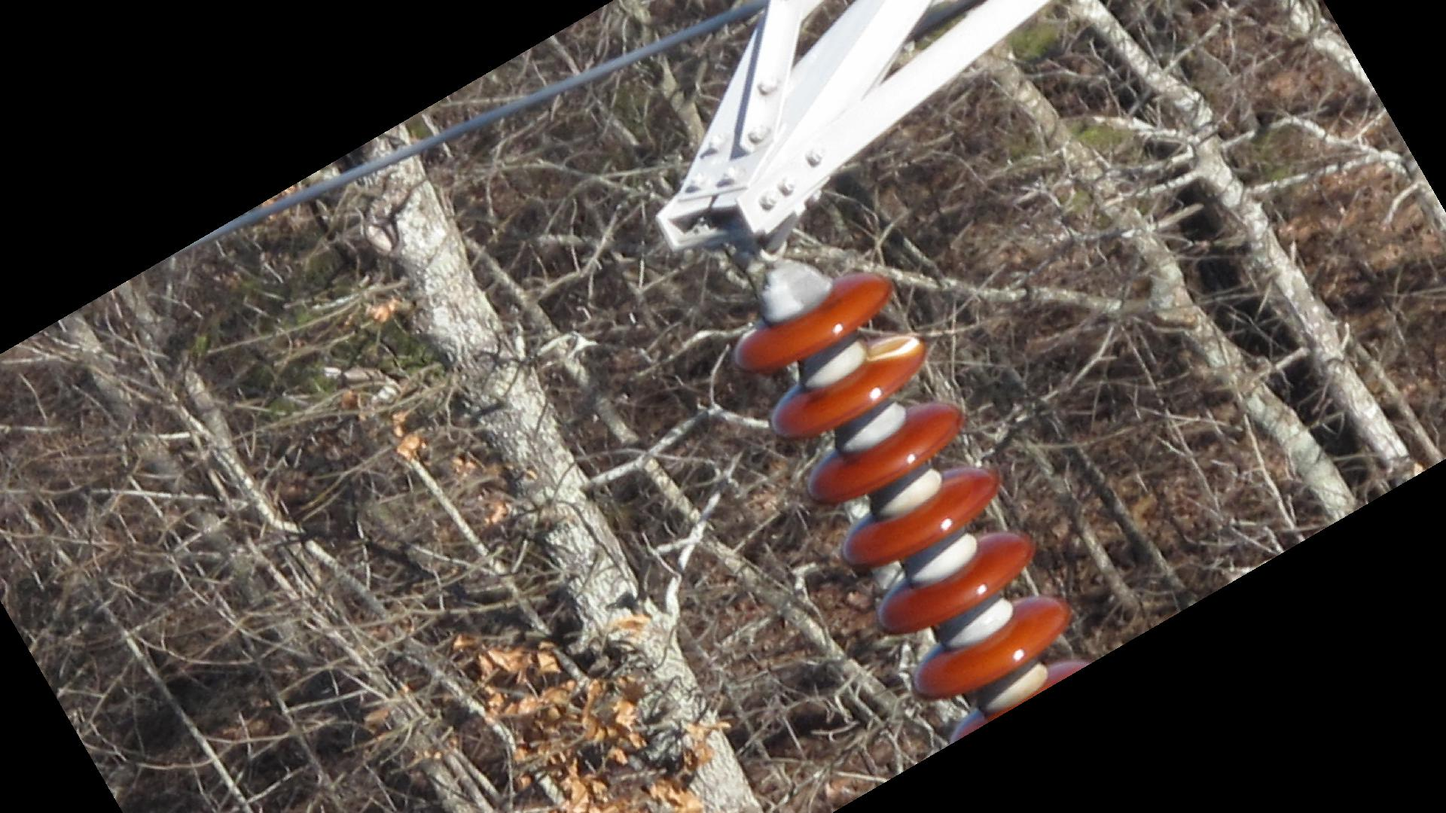insulator: (722, 262, 1094, 746)
insulator_flashover: (860, 328, 925, 365)
